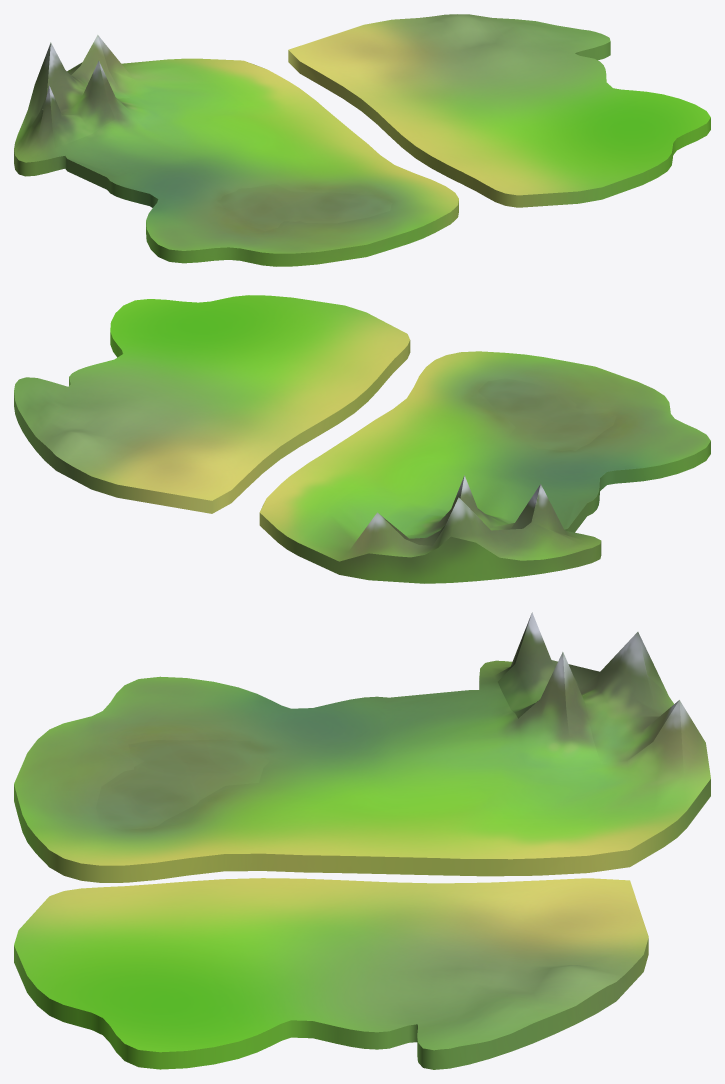
File: SM_Location.fbx
3 renders of one model, top to bottom at view 1: azimuth 30°, elevation 25°; view 2: azimuth 150°, elevation 25°; view 3: azimuth 270°, elevation 25°, orthographic. The views are drawn at different scales.
Visible parts, largest first — view 1: SM_Location; view 2: SM_Location; view 3: SM_Location.
Part boxes in pixels (<box>): SM_Location: <box>14,14,710,266</box>; SM_Location: <box>14,295,710,583</box>; SM_Location: <box>14,612,710,1069</box>.
Size of the model in its own units: 63130 by 7976 by 47731.
